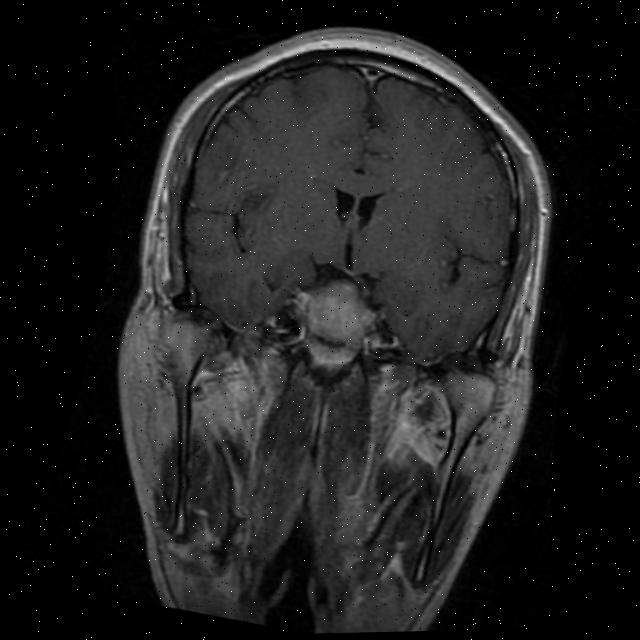Pituitary: (295, 272, 379, 375)
